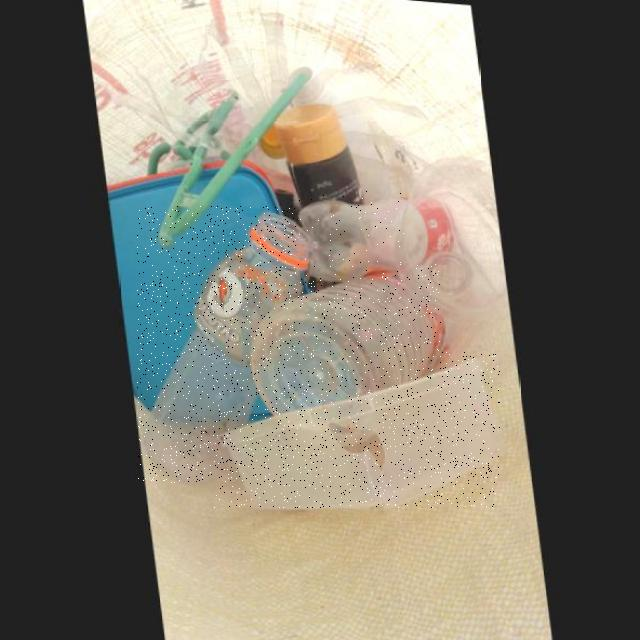plastic: (137, 207, 310, 483), (215, 351, 500, 508), (246, 264, 441, 411), (296, 190, 405, 277)
